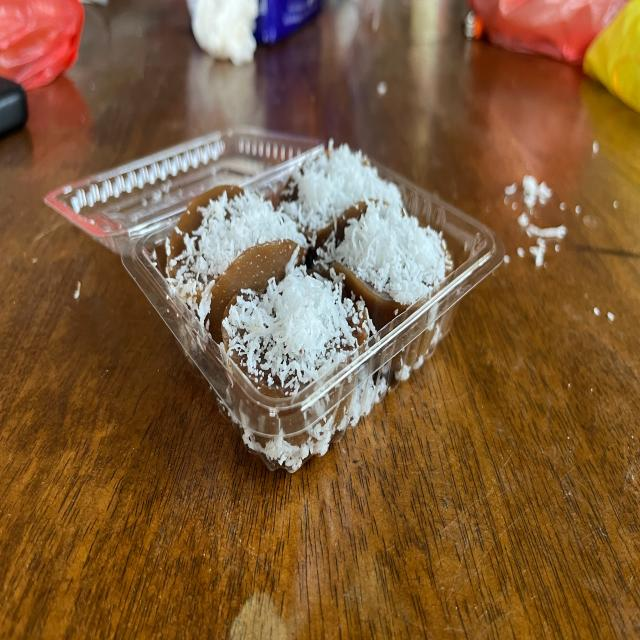Kuih lompang: (168, 184, 308, 342), (222, 253, 372, 396), (169, 191, 308, 342), (319, 202, 452, 329)
